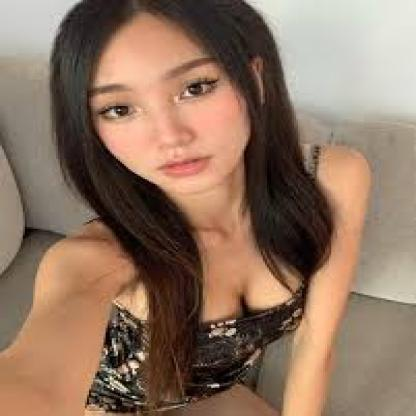person: (84, 13, 293, 192)
